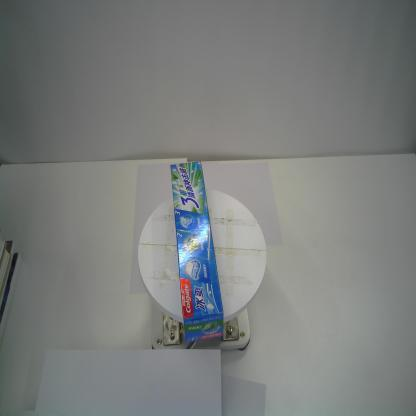Personal Hygiene: (168, 159, 224, 347)
